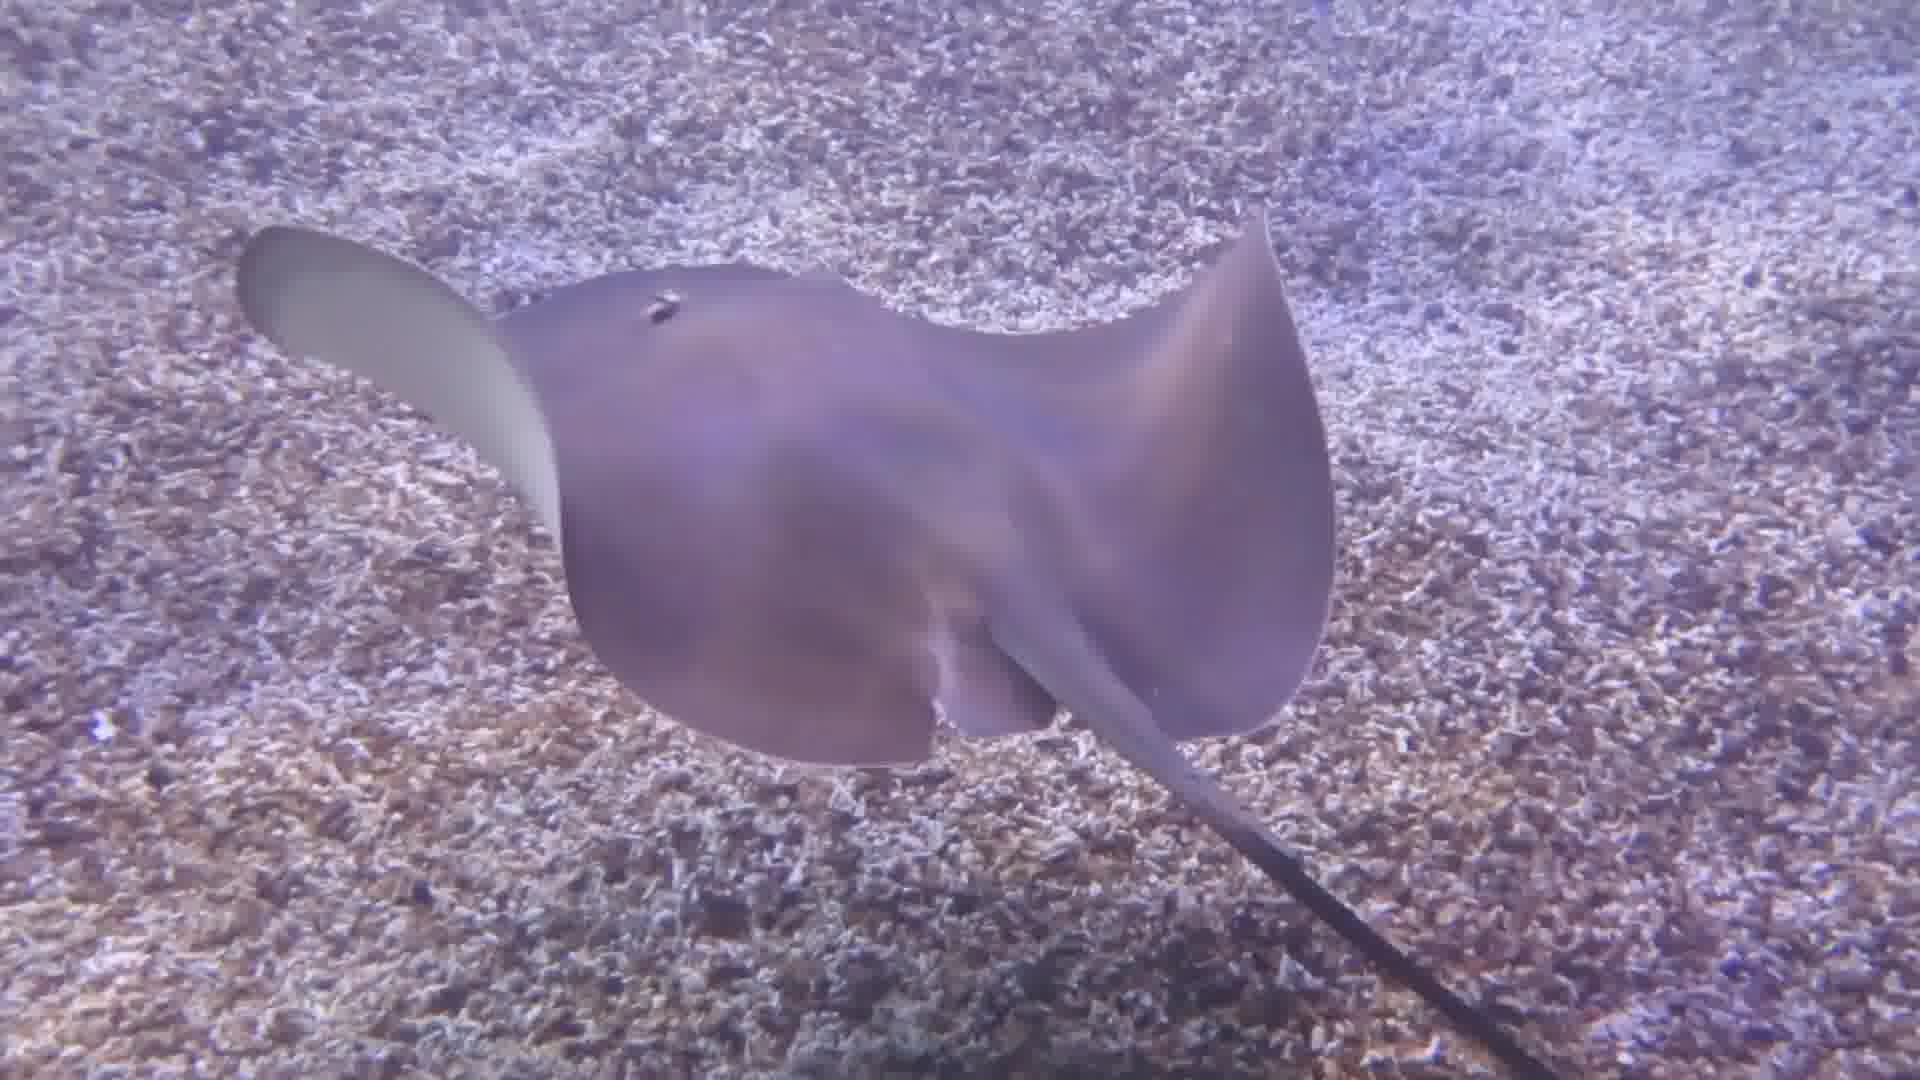Dasyatis akajei: (179, 171, 1791, 1080)
